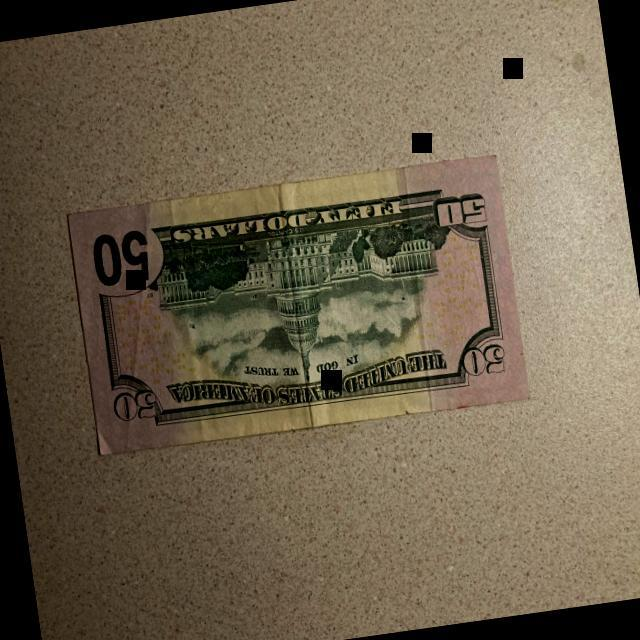fifty: (65, 153, 532, 461)
